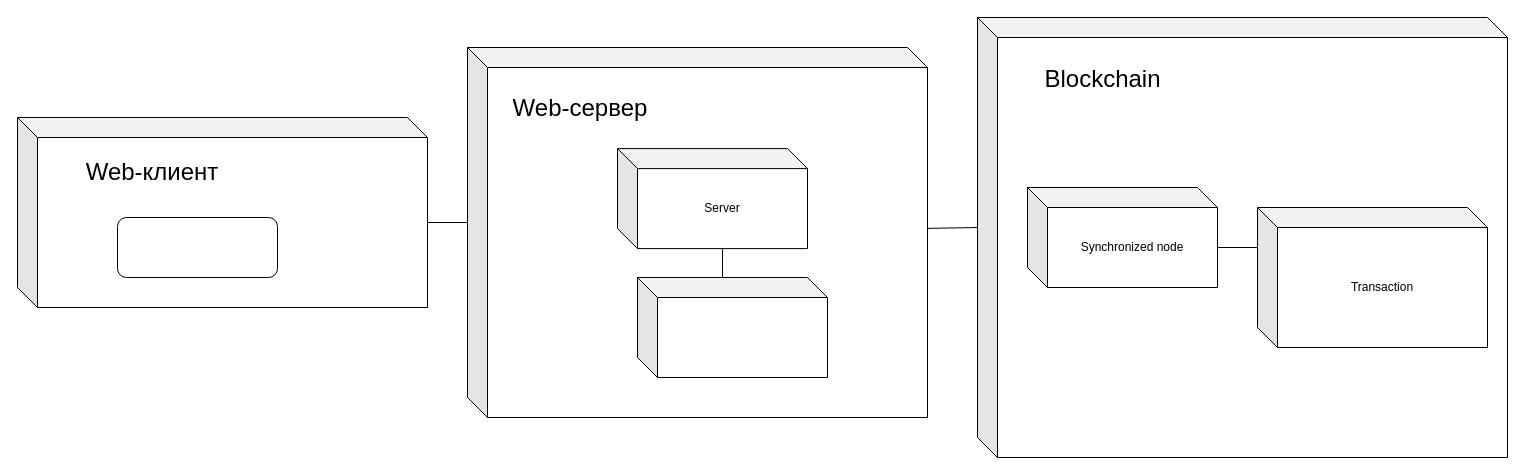
The diagram is 1525 pixels wide and 475 high, and some of its shapes have lost their labels. The shapes that lost their labels are listed below. From the top down, each one's box as (x1, y1, x2, y2) in pixels, then its label:
(116, 216, 278, 278): Web-браузер
(636, 276, 828, 378): Databasse
